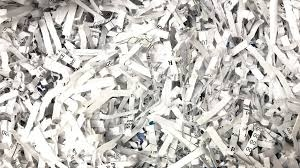paper: (98, 65, 152, 167), (11, 106, 98, 167), (207, 112, 300, 167), (211, 56, 299, 114), (8, 54, 103, 107), (9, 5, 107, 54), (225, 3, 298, 62), (100, 6, 162, 61), (163, 5, 225, 56), (150, 55, 210, 104), (148, 104, 205, 151)
